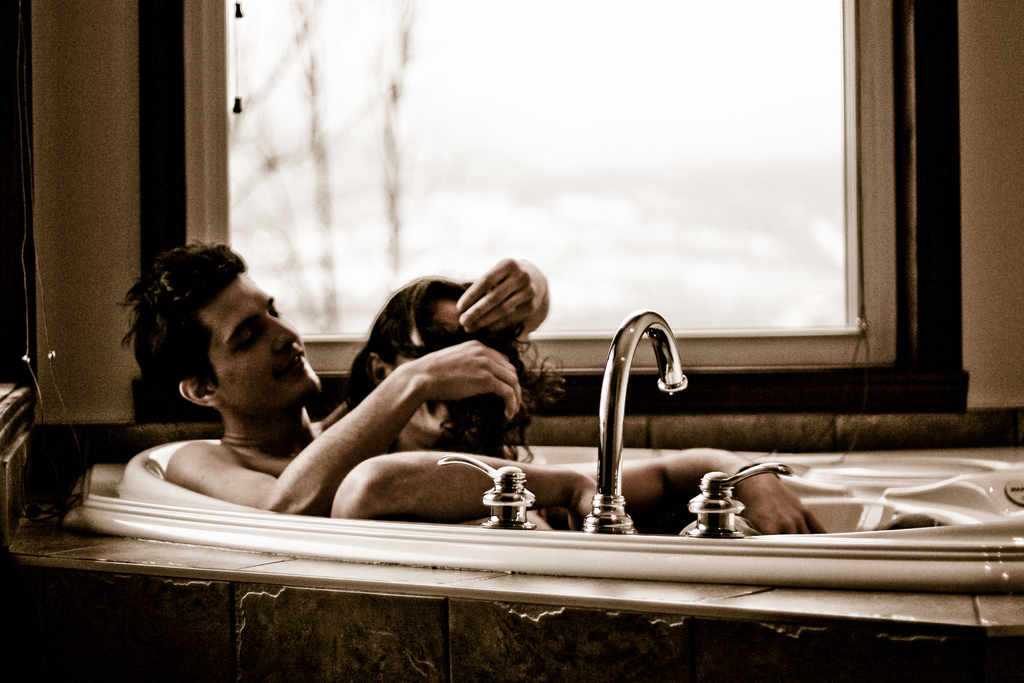tap: (396, 293, 791, 579)
